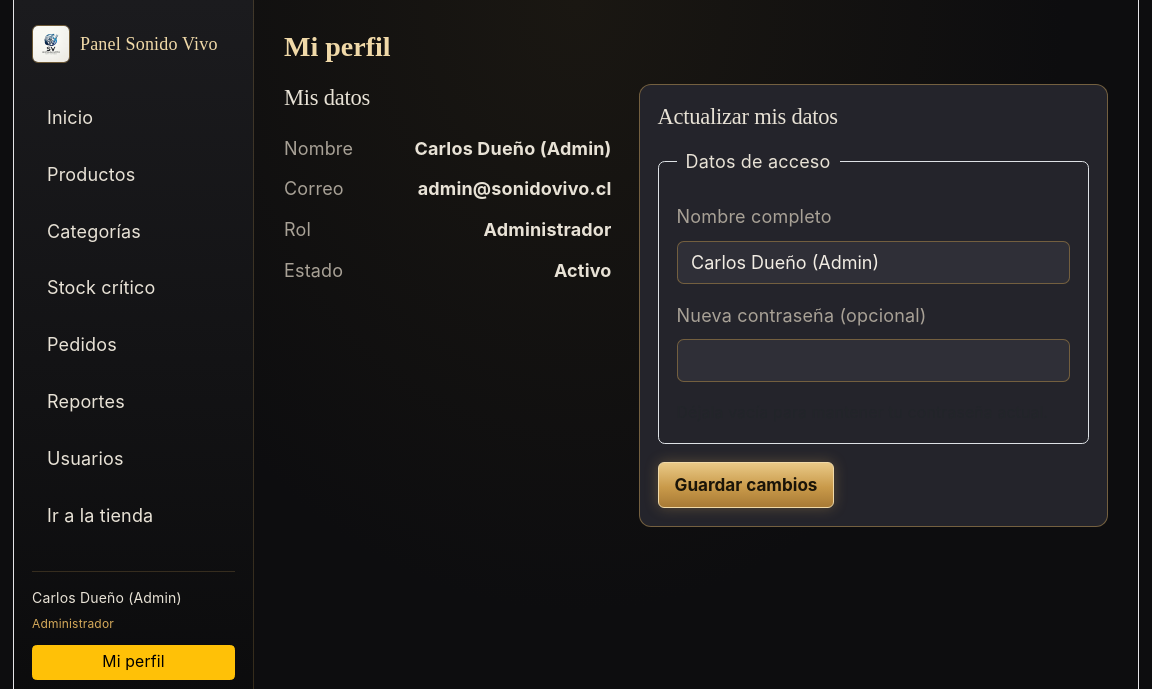
Página AdminPerfil › actualiza el nombre del usuario (PUT /usuarios/{id})
This screenshot has width=1152, height=689.
Step 1. Replace the text in the field labelled "Nombre completo" with "Carlos Nuevo Nombre" → (873, 262), box left=677, top=241, right=1070, bottom=284
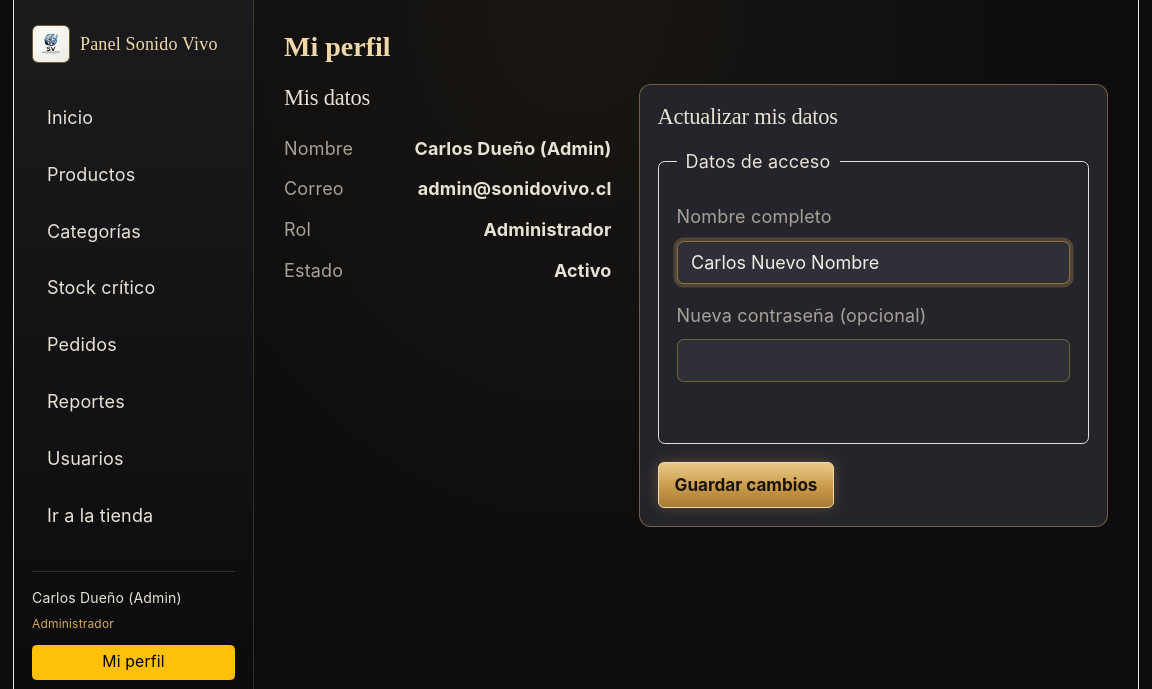
Step 2. Click the button "Guardar cambios" → (746, 485), box left=658, top=462, right=834, bottom=508
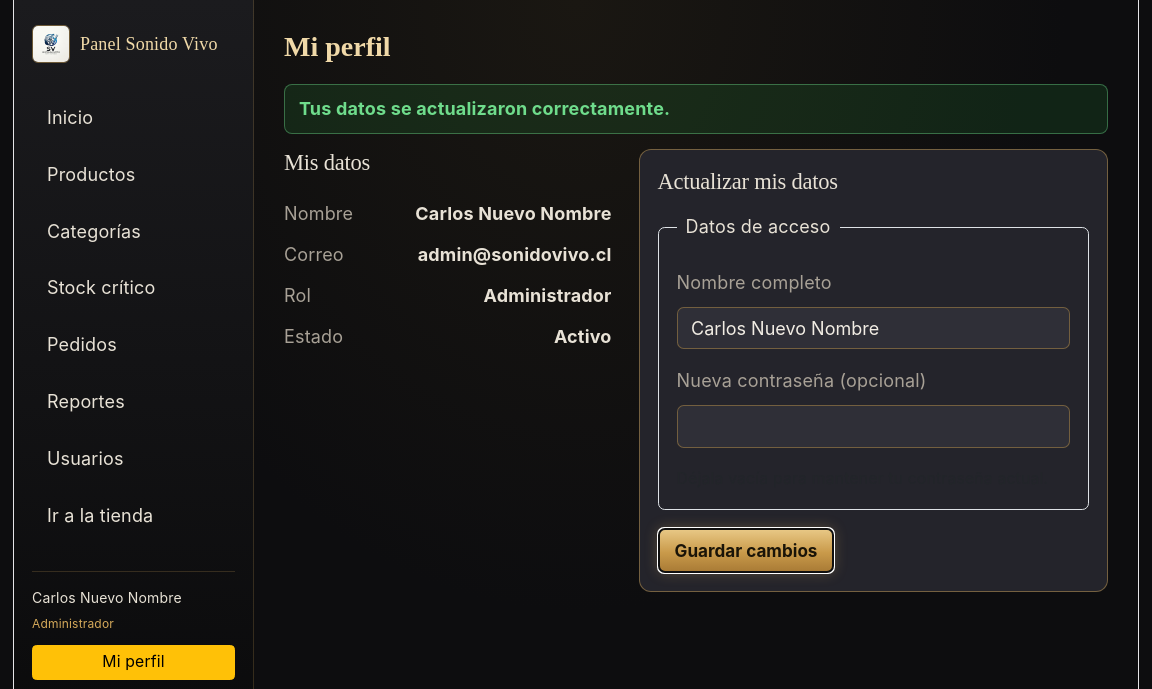
Now the text "Tus datos se actualizaron correctamente." is shown, box left=284, top=84, right=1108, bottom=134
Now the text "Carlos Nuevo Nombre" below "Ir a la tienda" is shown, box left=32, top=589, right=182, bottom=606
